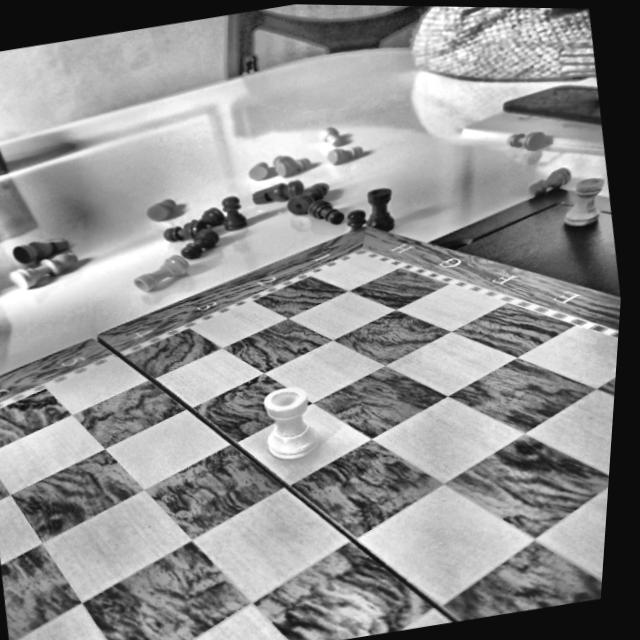white-rook: (247, 374, 336, 471)
